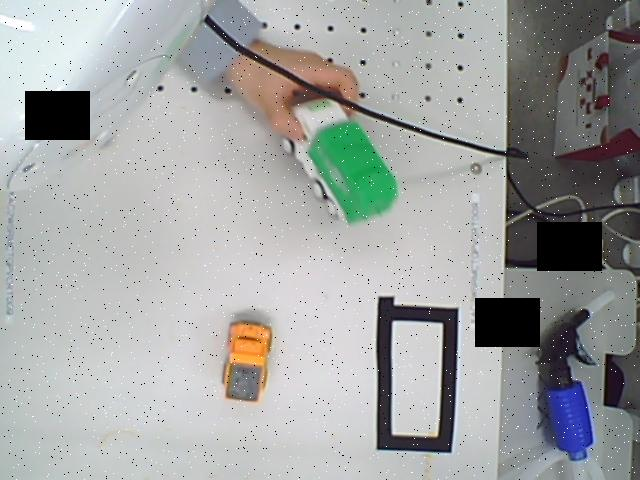Diesel car: (218, 314, 280, 403)
Electric car: (283, 96, 405, 228)
